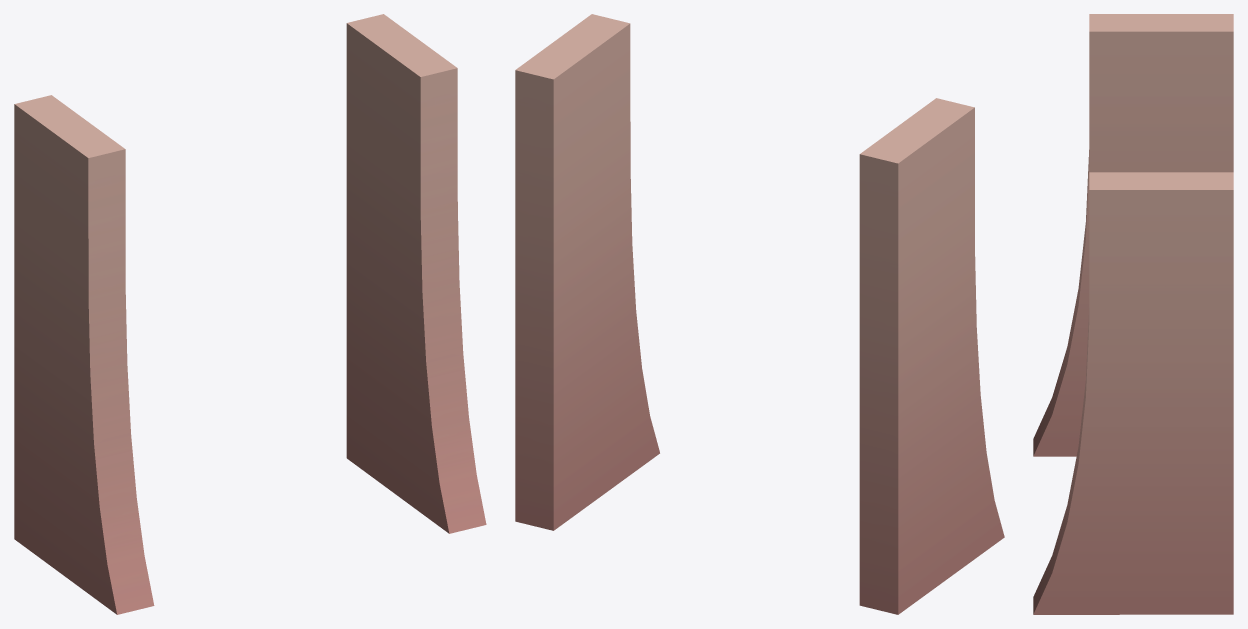
The model's file is GateWalls.fbx.
3 views of the same model, side by side, from view 1: azimuth 30°, elevation 25°; view 2: azimuth 150°, elevation 25°; view 3: azimuth 270°, elevation 25° (orthographic). The views are drawn at different scales.
Visible parts, largest first — view 1: Cube.003; view 2: Cube.003; view 3: Cube.003.
Boxes of the visible parts, <box> form: Cube.003: <box>14,14,486,614</box>; Cube.003: <box>515,14,1004,614</box>; Cube.003: <box>1033,14,1233,614</box>.
Size of the model in its own units: 419 by 472 by 202.
